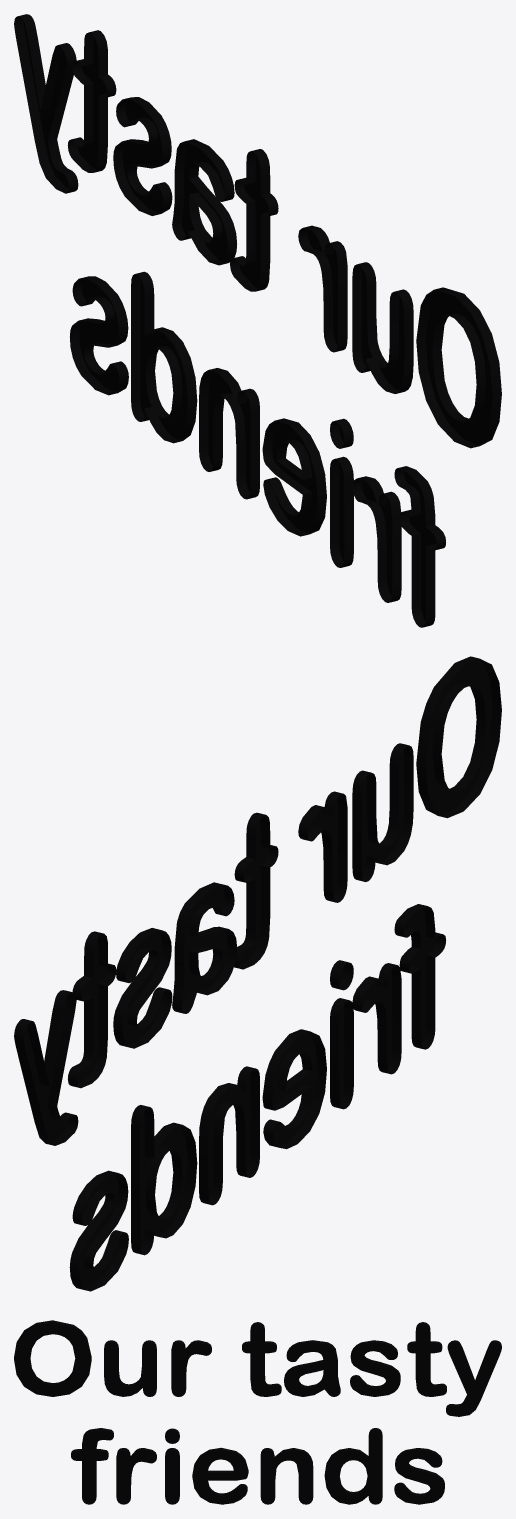
File: SignText_TastyFriends.fbx
The picture shows the model from 3 angles, top to bottom: view 1: azimuth 30°, elevation 25°; view 2: azimuth 150°, elevation 25°; view 3: azimuth 270°, elevation 25°; orthographic projection. The views are drawn at different scales.
Parts seen in each view (by area): view 1: SignText_TastyFriends; view 2: SignText_TastyFriends; view 3: SignText_TastyFriends.
Part boxes in pixels (x1,y1,x2,y2): SignText_TastyFriends: (14,14,501,627); SignText_TastyFriends: (14,656,501,1291); SignText_TastyFriends: (14,1320,501,1504).
Bounding box in the file's own units: 0.2 × 7.24 × 17.59.
Materials: 1 (1 with a texture image).
